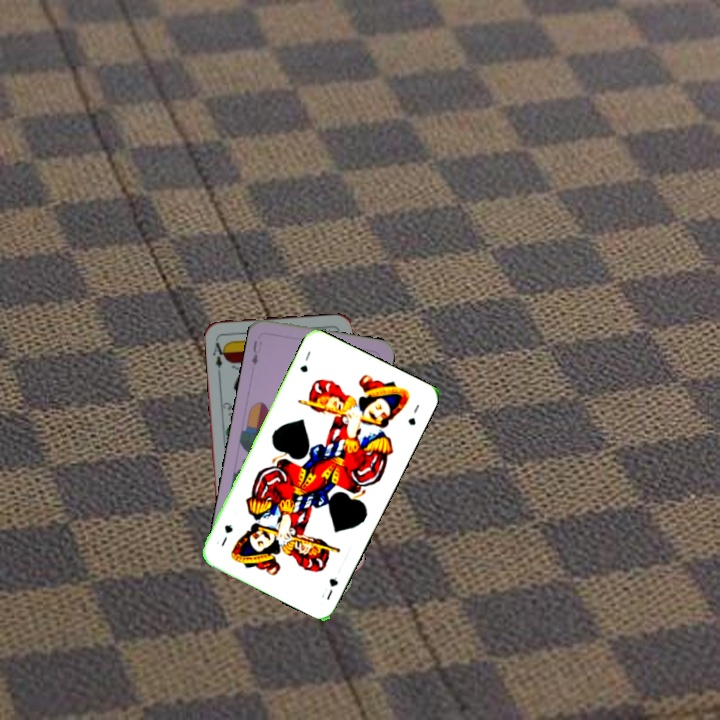EA: (209, 335, 229, 375)
EU: (248, 336, 265, 368)
GU: (317, 573, 341, 603), (296, 347, 313, 375)
